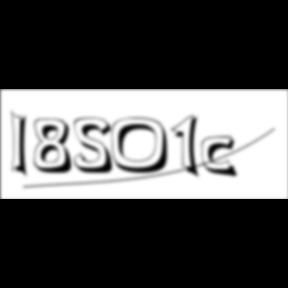1: (171, 114, 206, 182)
8: (34, 117, 78, 176)
O: (112, 117, 176, 176)
S: (74, 117, 120, 176)
c: (202, 136, 242, 180)
l: (12, 108, 34, 182)
